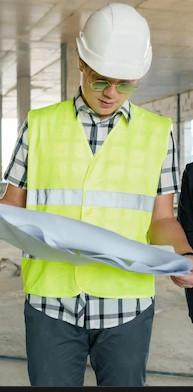hat: (61, 1, 186, 115)
vest: (15, 94, 193, 338)
